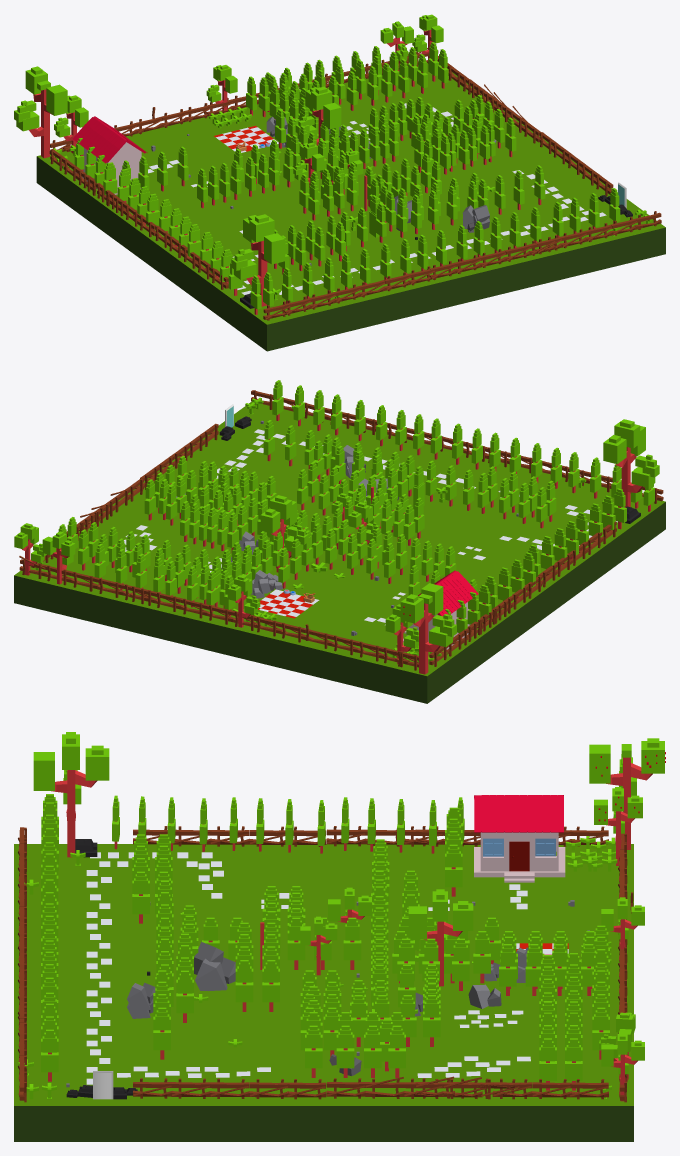
Rendered from world_new.glb.
3 renders of one model, top to bottom at view 1: azimuth 30°, elevation 25°; view 2: azimuth 150°, elevation 25°; view 3: azimuth 270°, elevation 25°, orthographic. The views are drawn at different scales.
Parts seen in each view (by area): view 1: chao, Telhado, Plano.002, Plano.001, Estrutura casa, arv2.099, arv2.015, arv2.102; view 2: chao, Plano.002, Plano.001, Telhado, arv2.099, arv2.012, arv2.100, arv2.013, arv2.102; view 3: chao, Plano.002, Telhado, Estrutura casa, arv2.012, arv2.099, arv2.102, arv2.015, pedra2.009, arv2.013, arv2.100, Porta (+3 smaller).
Part boxes in pixels (bbox=[...]): chao: bbox=[36, 63, 665, 351]; Telhado: bbox=[72, 116, 147, 163]; Plano.002: bbox=[191, 103, 606, 294]; Plano.001: bbox=[148, 125, 278, 173]; Estrutura casa: bbox=[75, 142, 141, 194]; arv2.099: bbox=[29, 89, 52, 158]; arv2.015: bbox=[264, 233, 285, 264]; arv2.102: bbox=[46, 84, 67, 115]; chao: bbox=[14, 401, 665, 703]; Plano.002: bbox=[124, 429, 617, 599]; Plano.001: bbox=[258, 589, 385, 625]; Telhado: bbox=[418, 570, 478, 616]; arv2.099: bbox=[413, 603, 440, 674]; arv2.012: bbox=[616, 447, 642, 507]; arv2.100: bbox=[400, 597, 423, 623]; arv2.013: bbox=[603, 438, 626, 464]; arv2.102: bbox=[421, 583, 443, 615]; chao: bbox=[14, 844, 633, 1141]; Plano.002: bbox=[86, 852, 530, 1084]; Telhado: bbox=[474, 795, 563, 832]; Estrutura casa: bbox=[474, 832, 565, 882]; arv2.012: bbox=[51, 770, 97, 857]; arv2.099: bbox=[606, 757, 652, 849]; arv2.102: bbox=[589, 744, 610, 783]; arv2.015: bbox=[33, 752, 54, 790]; pedra2.009: bbox=[195, 958, 227, 991]; arv2.013: bbox=[85, 748, 109, 780]; arv2.100: bbox=[641, 741, 664, 773]; Porta: bbox=[509, 841, 529, 871].
Bounding box in the file's own units: 126 × 32.91 × 125.
